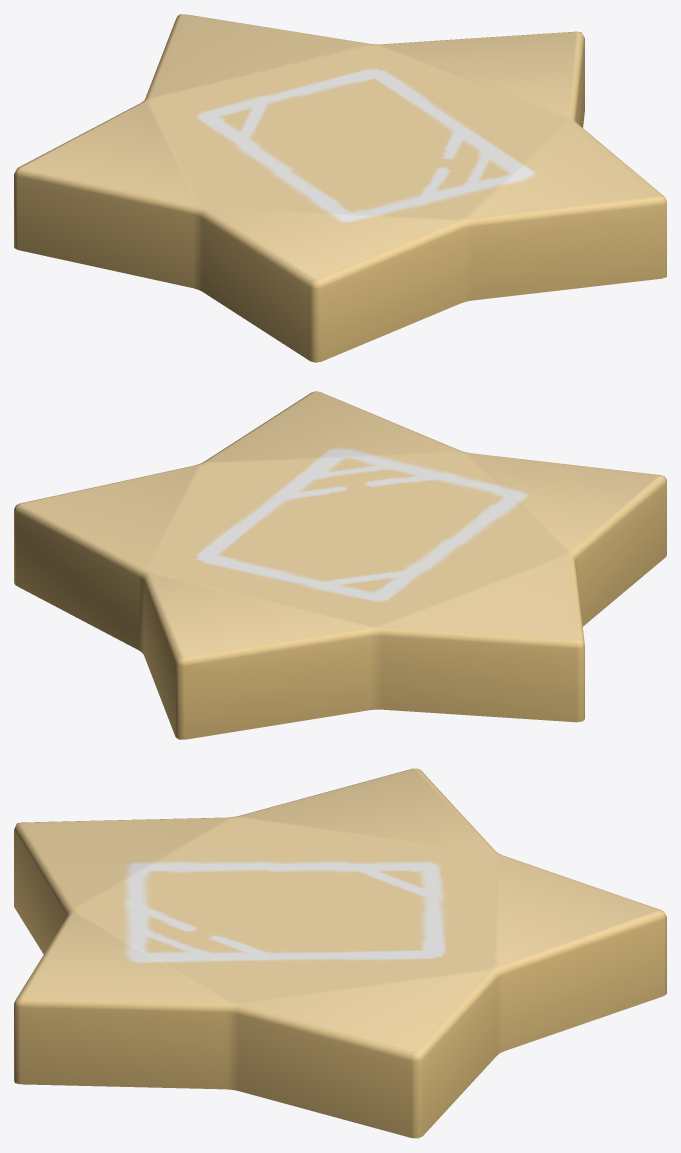
The model's file is visual_fan.glb.
3 views of the same model, one above another, from view 1: azimuth 30°, elevation 25°; view 2: azimuth 150°, elevation 25°; view 3: azimuth 270°, elevation 25° (orthographic). The views are drawn at different scales.
Parts seen in each view (by area): view 1: visual_fan; view 2: visual_fan; view 3: visual_fan.
Boxes of the visible parts, box(x1,y1,x2,y2) form: visual_fan: box(14, 14, 666, 362); visual_fan: box(14, 391, 666, 739); visual_fan: box(14, 768, 666, 1138).
Size of the model in its own units: 0.439 by 0.0587 by 0.4182.
Materials: 1 (1 with a texture image).
